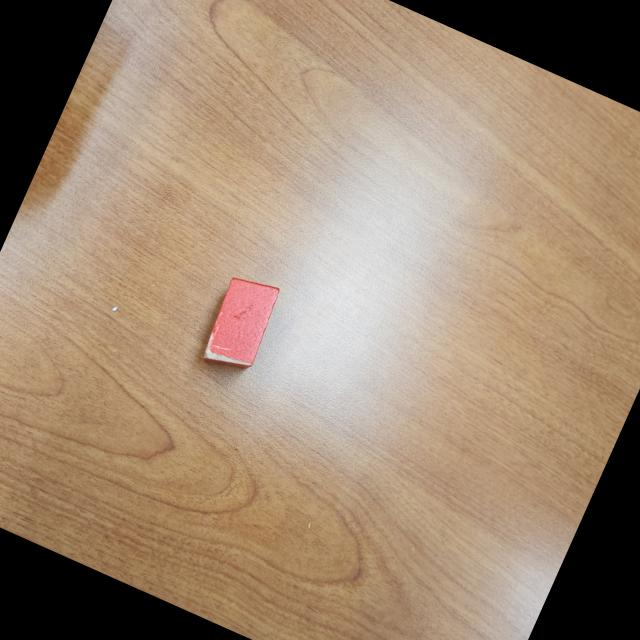broken: (196, 270, 285, 380)
